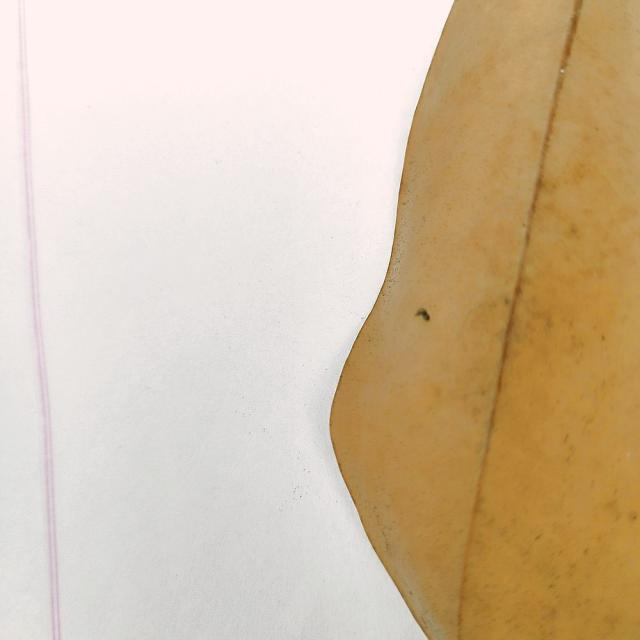Dry_Leaf-Lychee: (328, 0, 639, 639)
